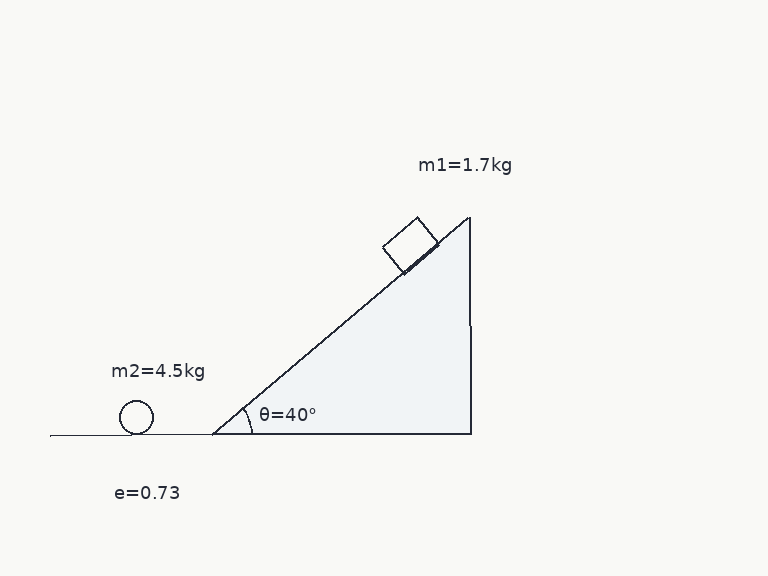ball: (117, 398, 155, 436)
block: (379, 216, 441, 275)
ramp: (210, 215, 472, 436)
